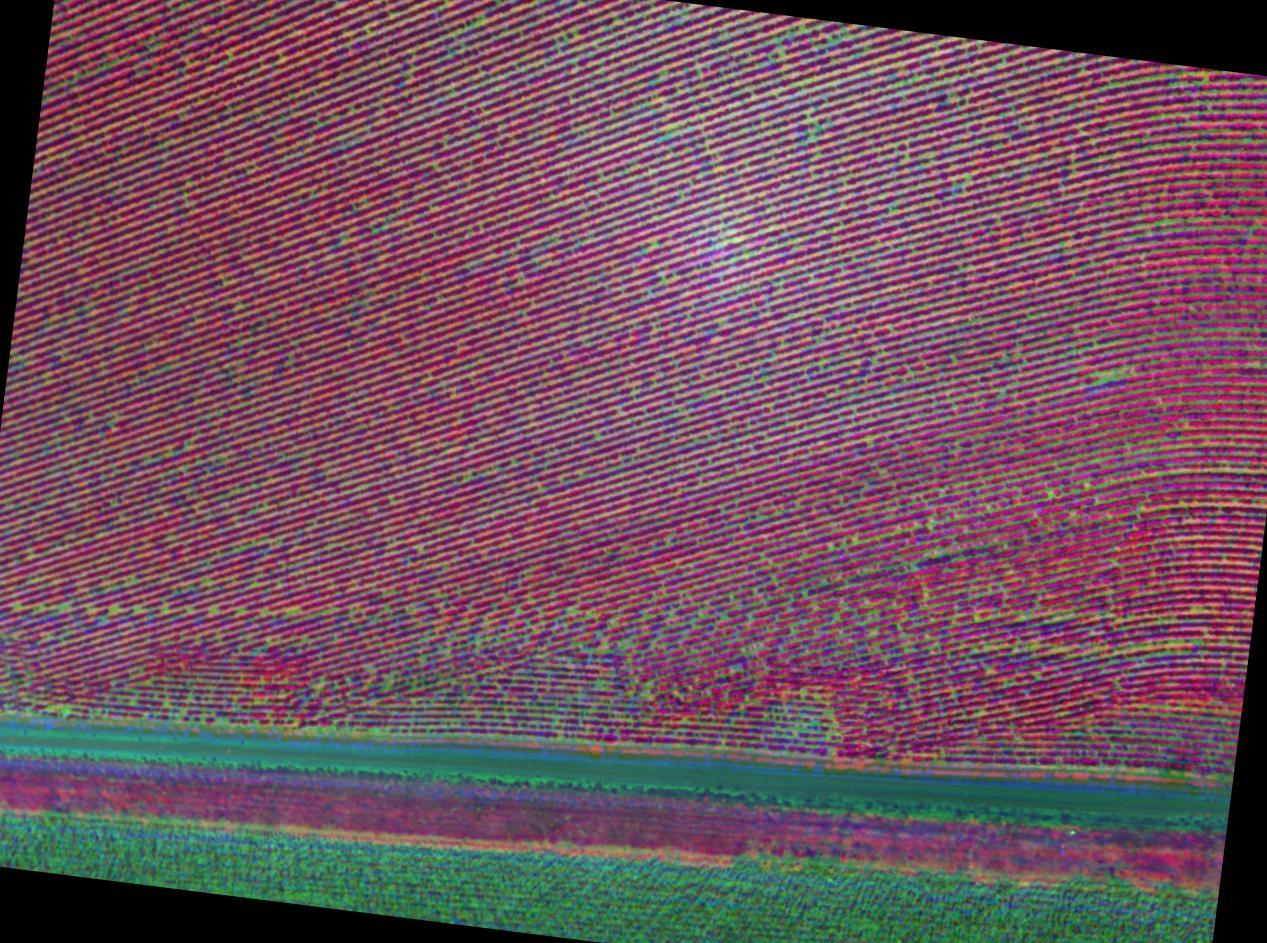dc: (1111, 373, 1115, 378), (1022, 614, 1027, 618), (262, 610, 265, 614), (317, 684, 320, 688), (1139, 508, 1142, 511), (569, 610, 572, 613), (437, 593, 439, 597), (866, 604, 870, 606)
